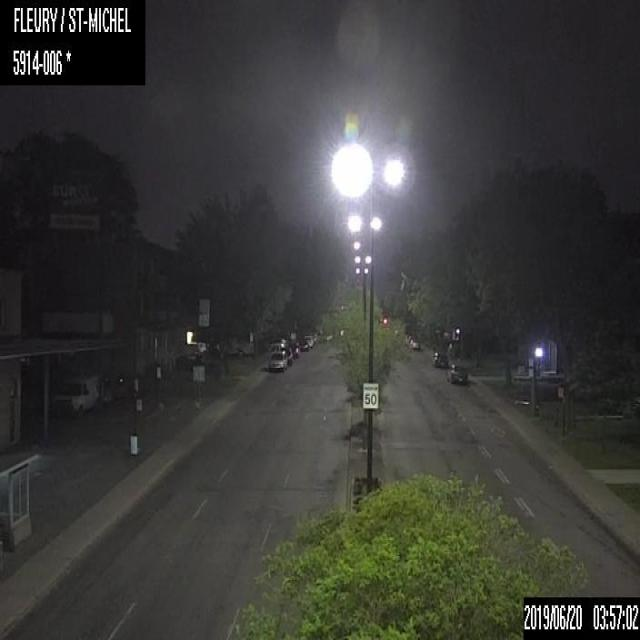vehicle: (51, 374, 98, 415), (225, 336, 252, 358), (266, 348, 286, 372), (448, 364, 467, 383), (432, 352, 450, 368), (280, 346, 292, 366), (408, 337, 422, 351)
